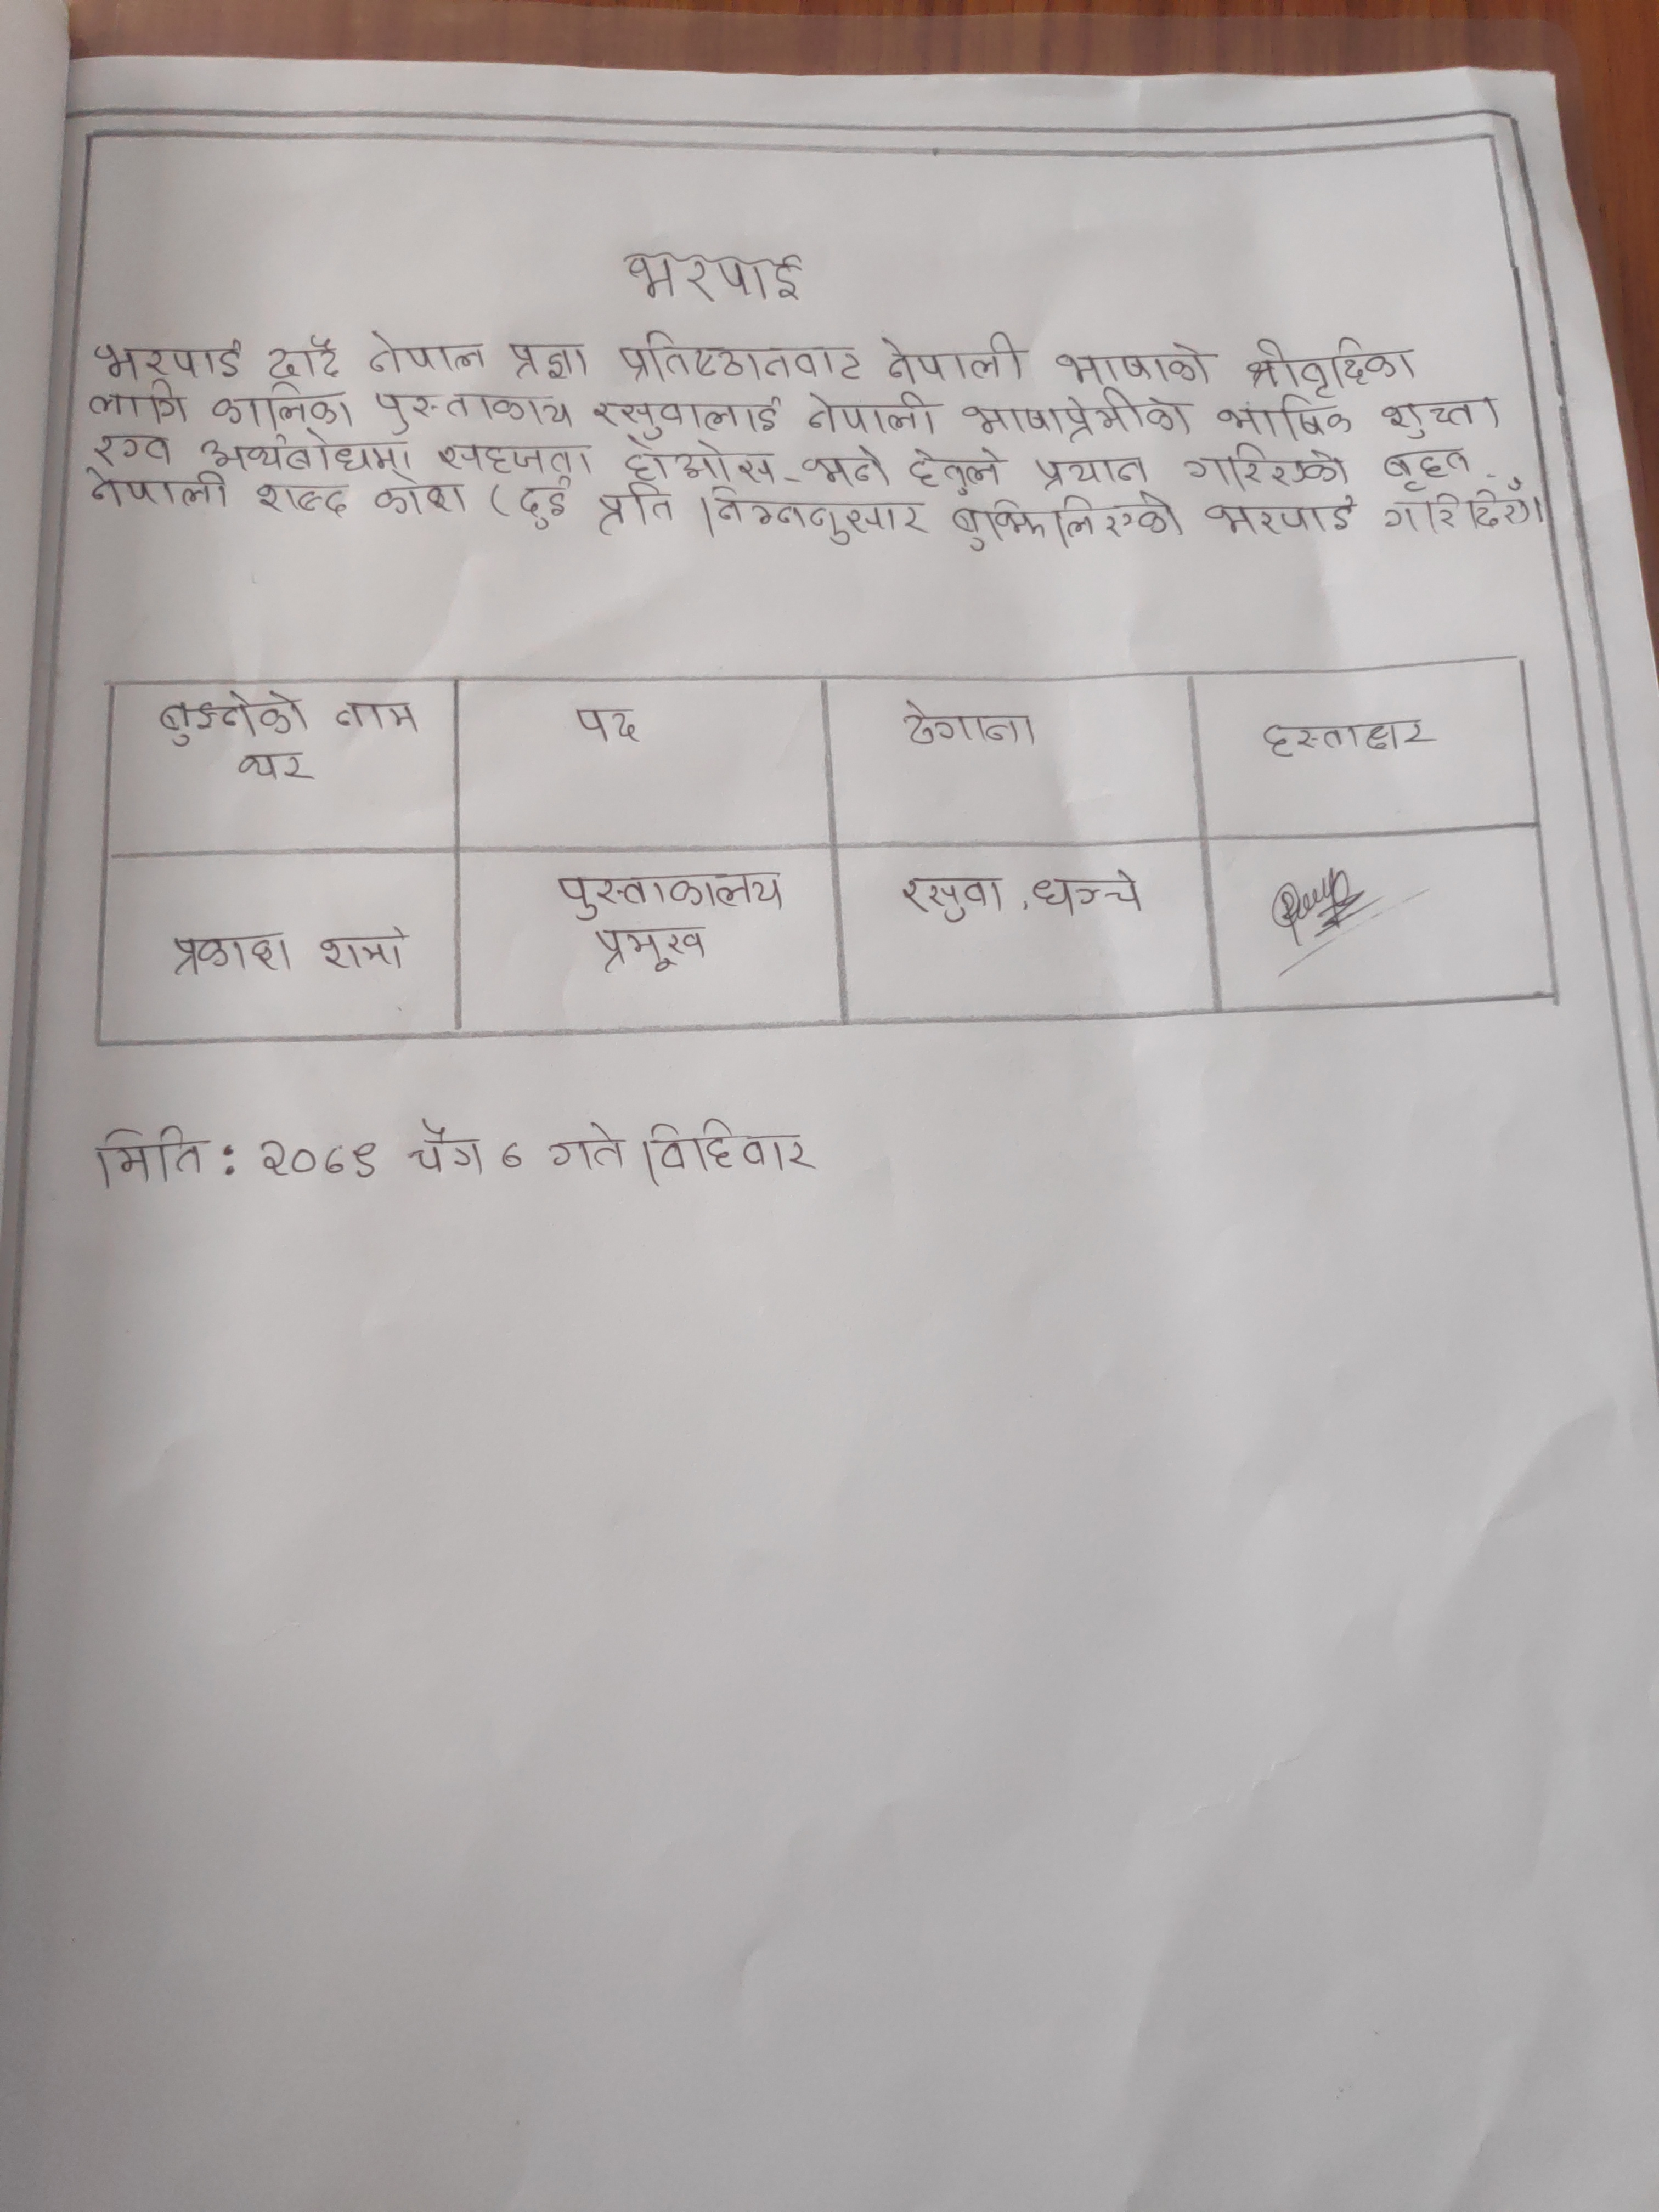text: (615, 324, 868, 383), (706, 482, 932, 543), (950, 495, 1187, 552), (617, 242, 805, 310), (958, 388, 1194, 439), (549, 867, 791, 916), (638, 1120, 824, 1183), (1237, 333, 1424, 394), (199, 427, 415, 477), (589, 388, 781, 437), (371, 390, 586, 434), (152, 690, 310, 742), (1382, 488, 1535, 542), (1182, 441, 1354, 488), (894, 695, 1039, 751), (873, 329, 1026, 381), (92, 331, 249, 381), (1262, 716, 1434, 761), (620, 439, 781, 486), (92, 1129, 211, 1190), (1051, 343, 1215, 387), (434, 432, 598, 475), (260, 1130, 380, 1188), (1204, 491, 1356, 536), (800, 387, 945, 434), (160, 932, 295, 979), (364, 329, 488, 380), (207, 385, 356, 427), (587, 923, 713, 972), (1216, 397, 1354, 441), (89, 469, 232, 510), (1032, 867, 1148, 916), (899, 871, 1004, 925), (903, 444, 1009, 495), (1375, 401, 1502, 439), (596, 481, 678, 540), (404, 1116, 488, 1174), (1030, 451, 1150, 489), (1377, 444, 1474, 491), (85, 381, 192, 423), (375, 475, 469, 521), (547, 1120, 631, 1170), (321, 925, 410, 972), (802, 444, 894, 486), (254, 481, 354, 519), (505, 338, 591, 381), (263, 338, 340, 383), (512, 479, 575, 533), (237, 747, 321, 786), (572, 704, 645, 747), (92, 430, 174, 465), (329, 700, 418, 732), (495, 1139, 528, 1174)
